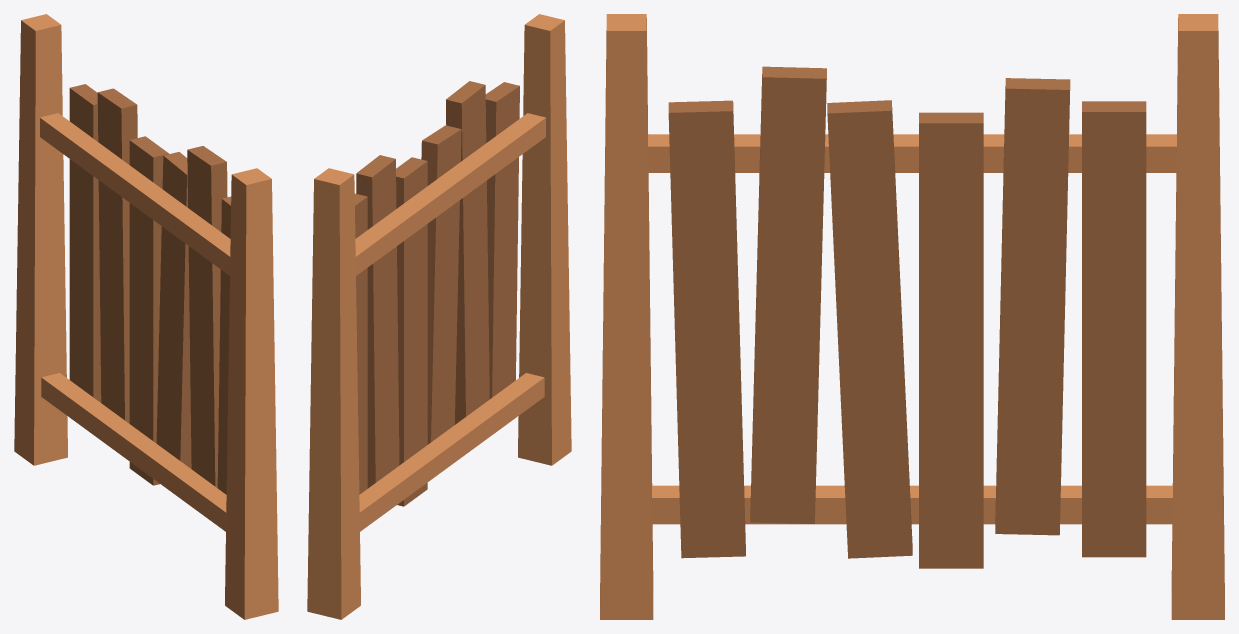
Rendered from fenceFortified.dae.
3 renders of one model, left to right at view 1: azimuth 30°, elevation 25°; view 2: azimuth 150°, elevation 25°; view 3: azimuth 270°, elevation 25°, orthographic. The views are drawn at different scales.
Visible parts, largest first — view 1: fenceFortified; view 2: fenceFortified; view 3: fenceFortified.
Part boxes in pixels (x1=…): fenceFortified: x1=14, y1=14, x2=278, y2=619; fenceFortified: x1=307, y1=14, x2=571, y2=619; fenceFortified: x1=600, y1=14, x2=1224, y2=619.
Bounding box in the file's own units: 0.2121 × 2.07 × 2.
